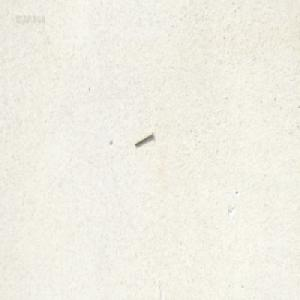Bolt: (133, 130, 153, 147)
